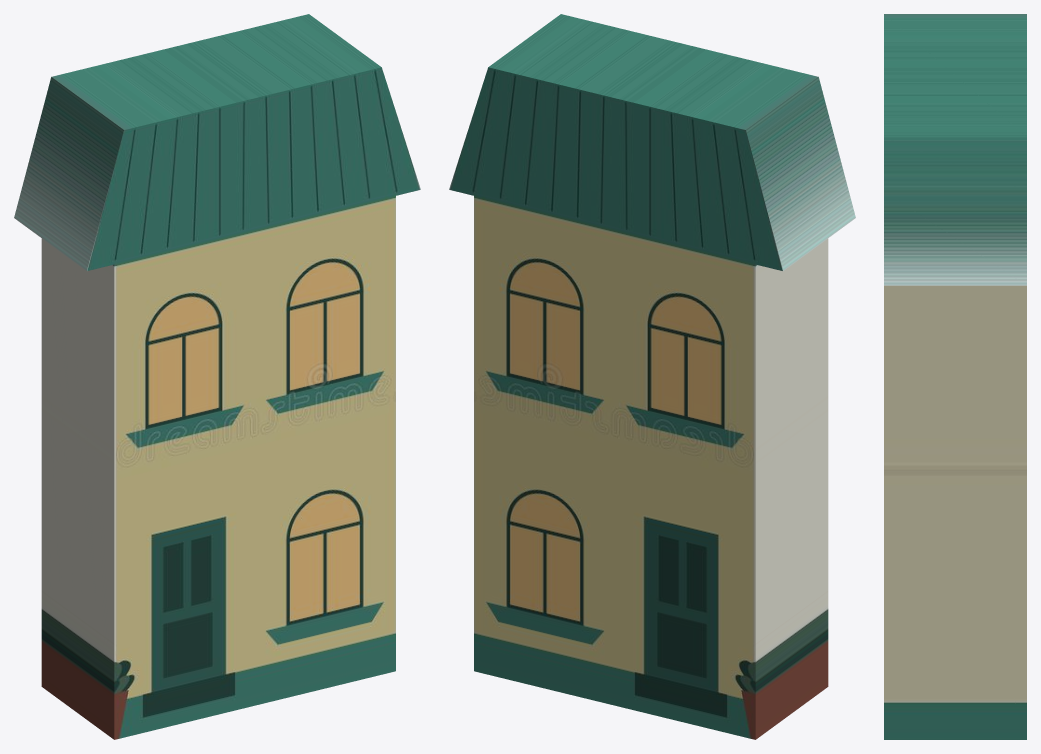
3 views of the same model, side by side, from view 1: azimuth 30°, elevation 25°; view 2: azimuth 150°, elevation 25°; view 3: azimuth 270°, elevation 25° (orthographic).
Visible parts, largest first — view 1: city-town-house-vector-facade-face-side-street-view-modern-w; view 2: city-town-house-vector-facade-face-side-street-view-modern-w; view 3: city-town-house-vector-facade-face-side-street-view-modern-w.
Part boxes in pixels (x1,y1,x2,y2): city-town-house-vector-facade-face-side-street-view-modern-w: (14, 14, 420, 739); city-town-house-vector-facade-face-side-street-view-modern-w: (449, 14, 855, 739); city-town-house-vector-facade-face-side-street-view-modern-w: (884, 14, 1026, 739).
Bounding box in the file's own units: 44.84 × 77.9 × 16.92.
